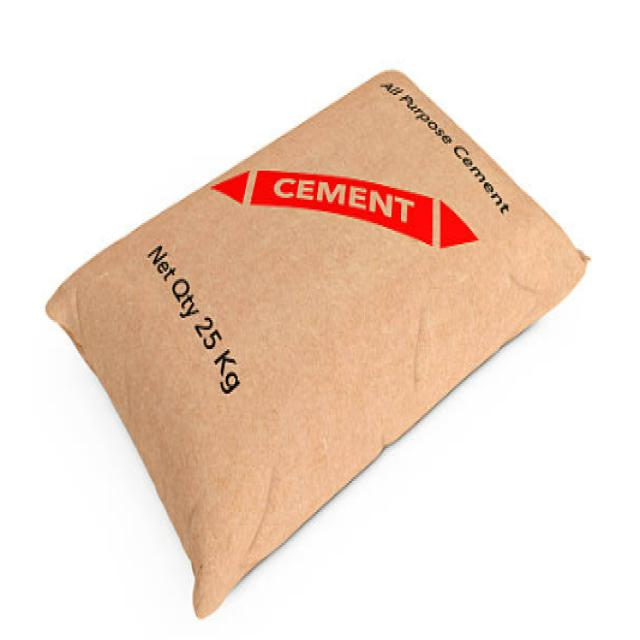KantongSemen: (43, 64, 591, 619)
